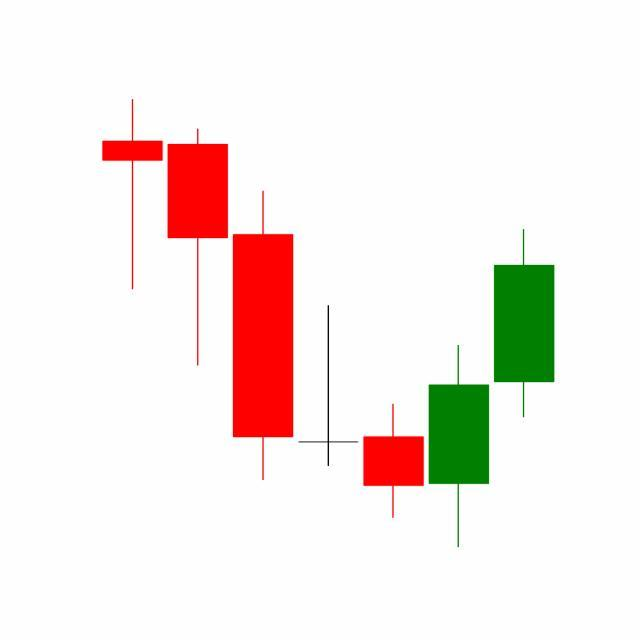Hikkake Pattern: (229, 187, 555, 548)
